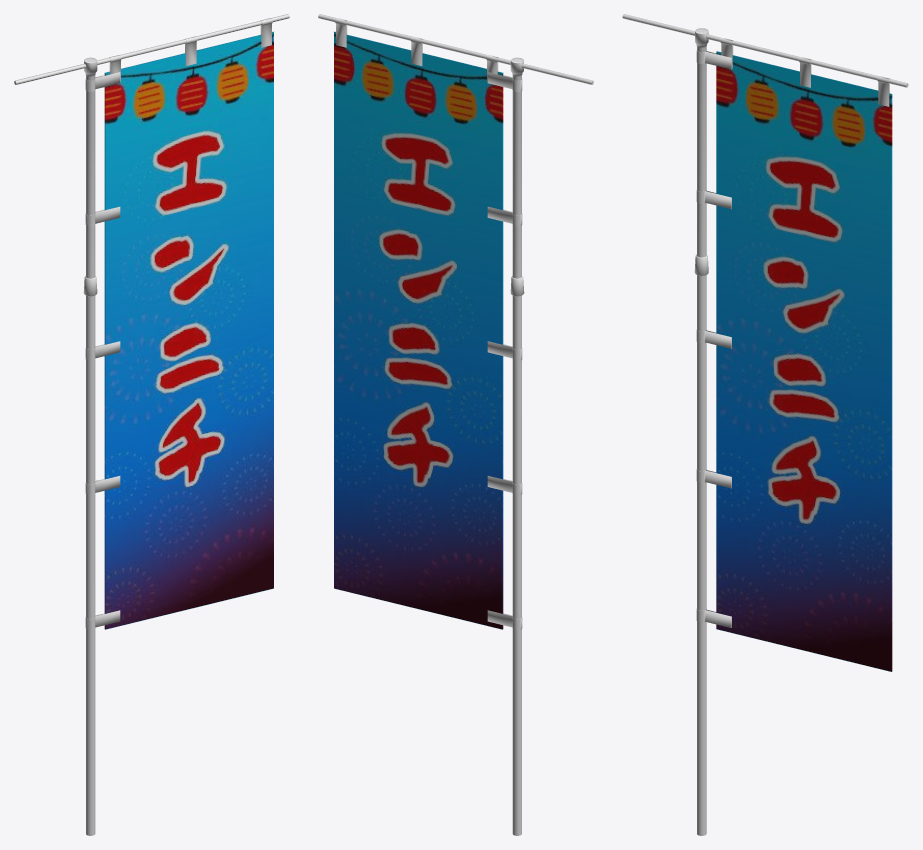
Rendered from Nobori_2.fbx.
The picture shows the model from 3 angles, left to right: view 1: azimuth 30°, elevation 25°; view 2: azimuth 150°, elevation 25°; view 3: azimuth 330°, elevation 25°; orthographic projection. The views are drawn at different scales.
Visible parts, largest first — view 1: 円柱; view 2: 円柱; view 3: 円柱.
Boxes of the visible parts, box(x1,y1,x2,y2) form: 円柱: box(14, 14, 289, 835); 円柱: box(318, 14, 593, 835); 円柱: box(622, 14, 908, 835).
Size of the model in its own units: 122 by 330 by 5.28.
